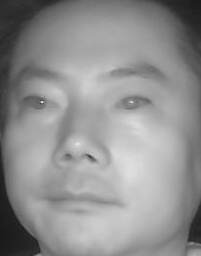eye: (22, 91, 62, 118), (113, 91, 155, 116)
mouth: (38, 176, 124, 221)
